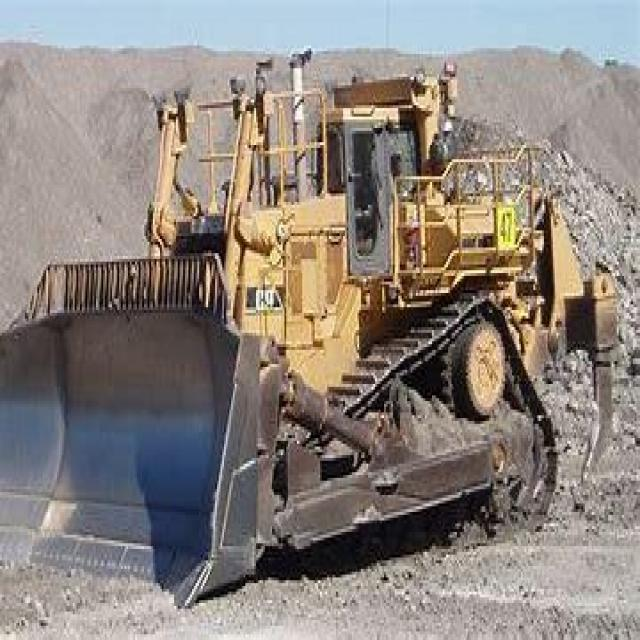Bulldozer: (0, 46, 624, 612)
